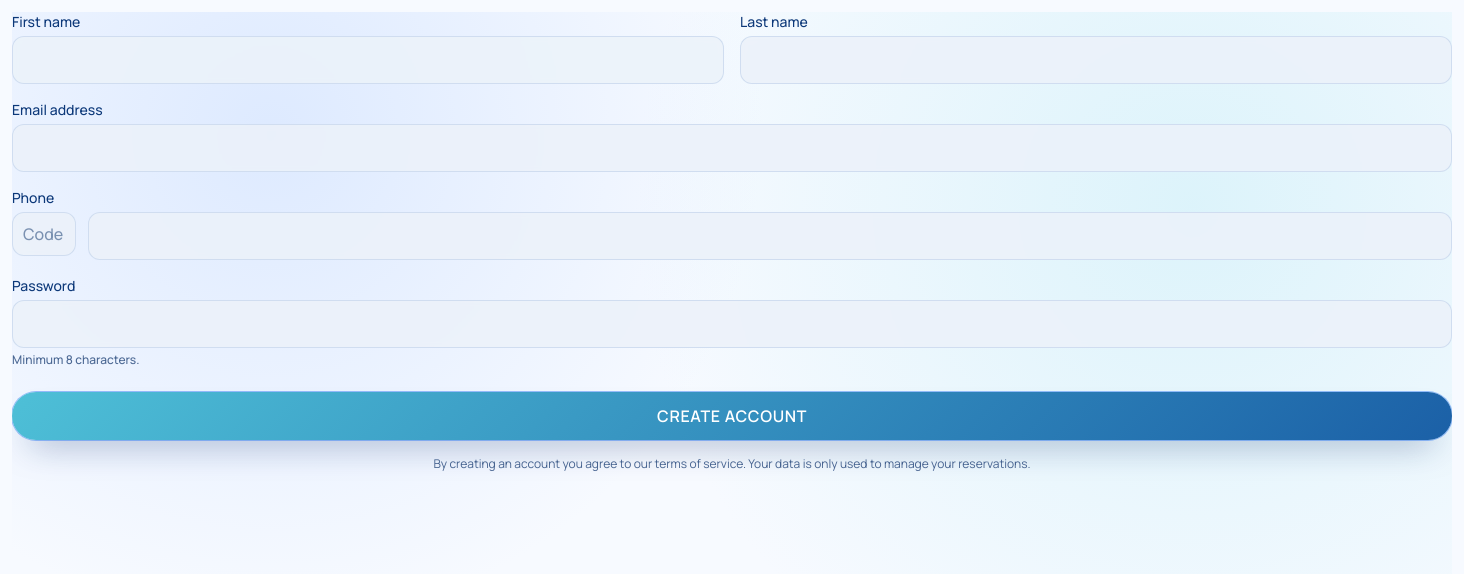
Test case: RegisterForm › validates password minimum length
Type "Test" into the field labelled "First name" at (368, 60), box left=12, top=36, right=724, bottom=84
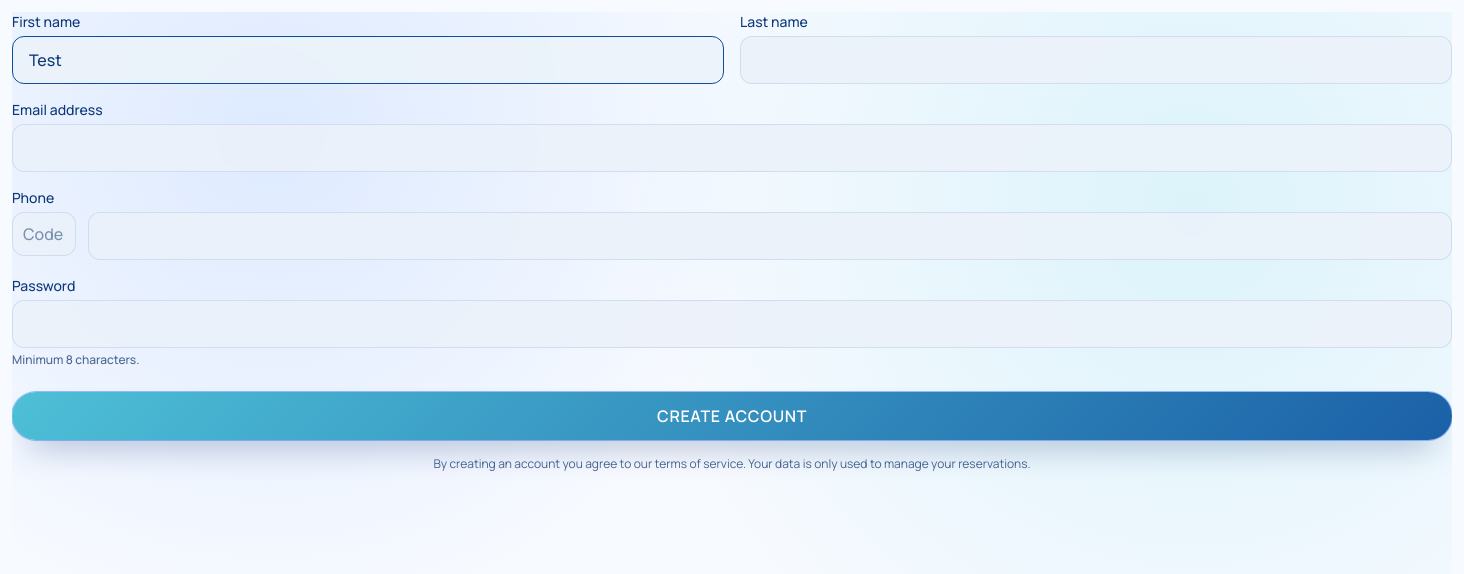
Type "User" into the field labelled "Last name" at (1096, 60), box left=740, top=36, right=1452, bottom=84
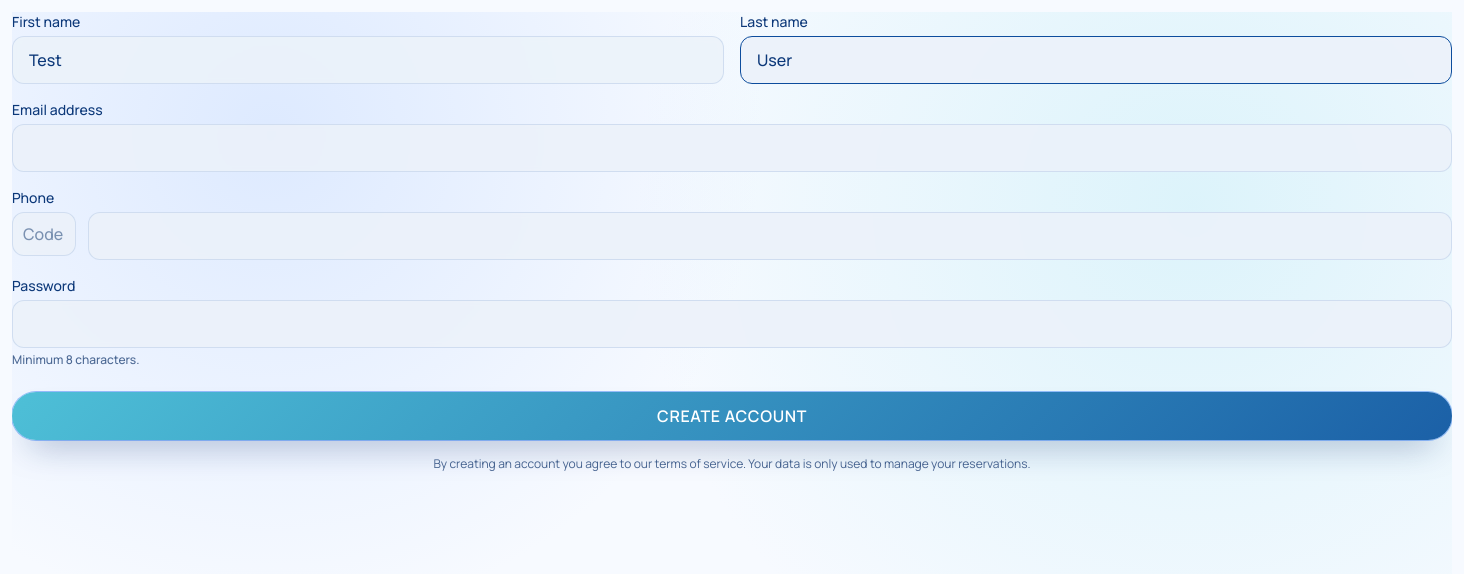
Type "test@vimex.mx" into the field labelled "Email address" at (732, 148), box left=12, top=124, right=1452, bottom=172
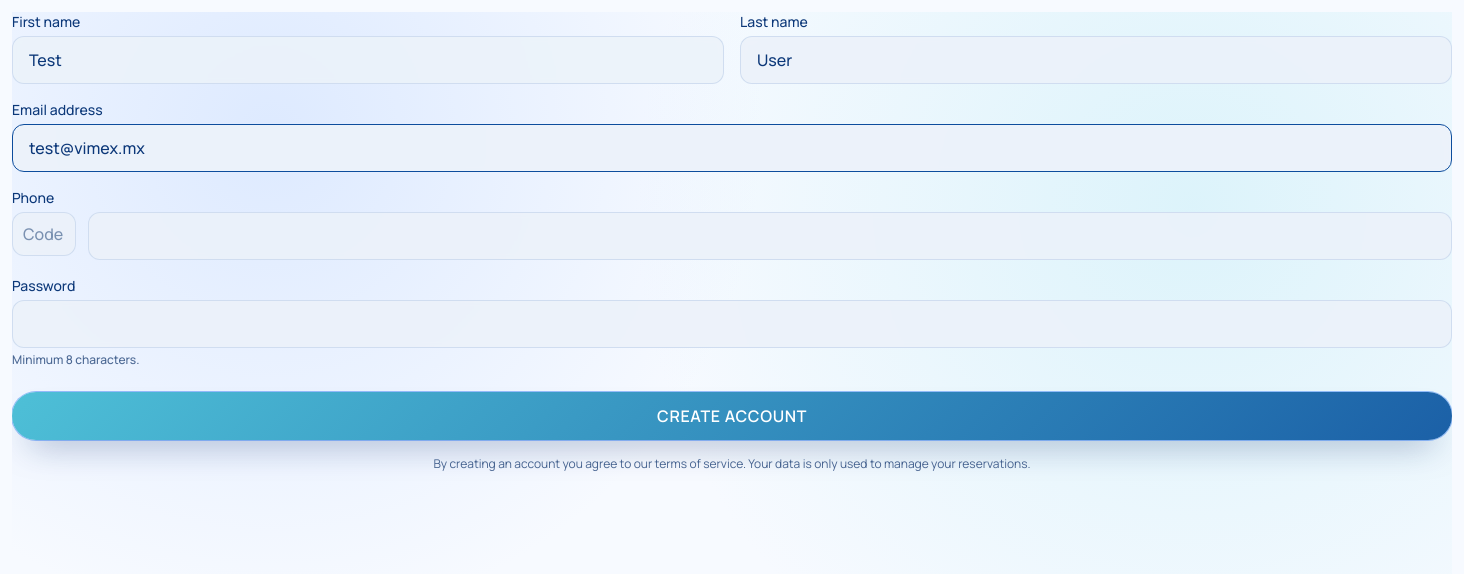
Type "123" into the password field labelled "Password Minimum 8 characters." at (732, 324), box left=12, top=300, right=1452, bottom=348
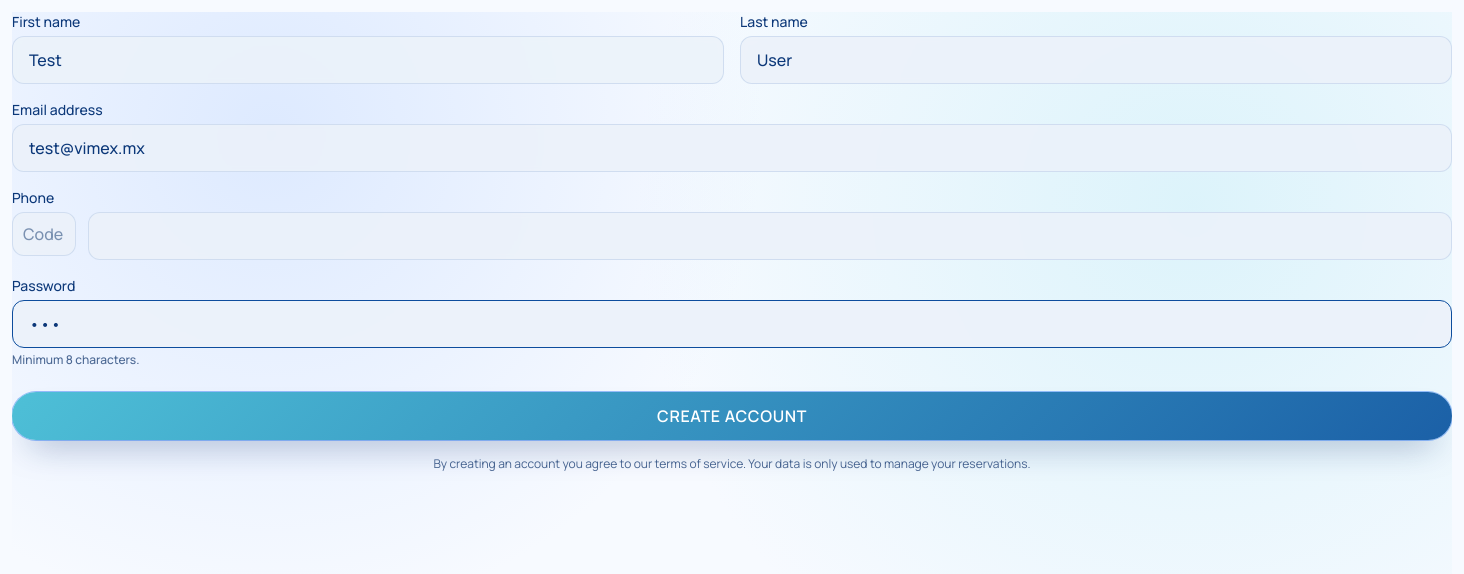
Click the button "Create account" at (732, 416), box left=12, top=392, right=1452, bottom=440
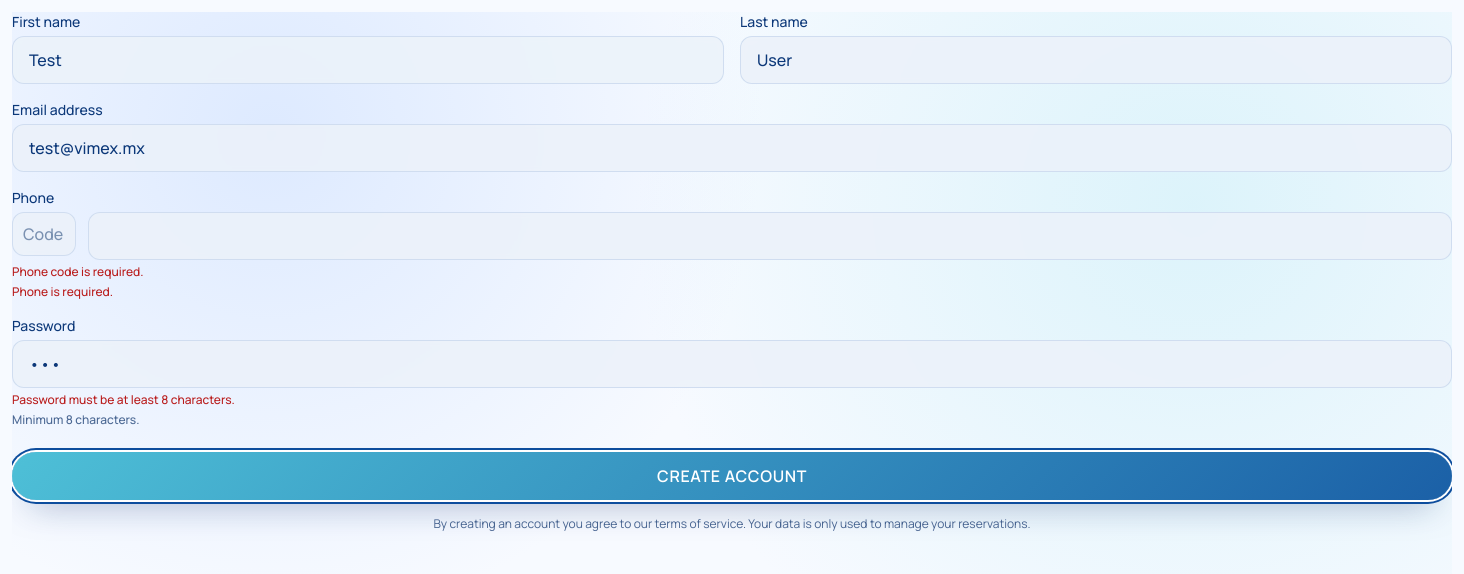
Check: the text "Password must be at least 8 characters." is shown, box left=12, top=391, right=235, bottom=408
